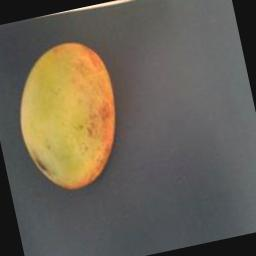Mango Unripe: (0, 21, 137, 206)
